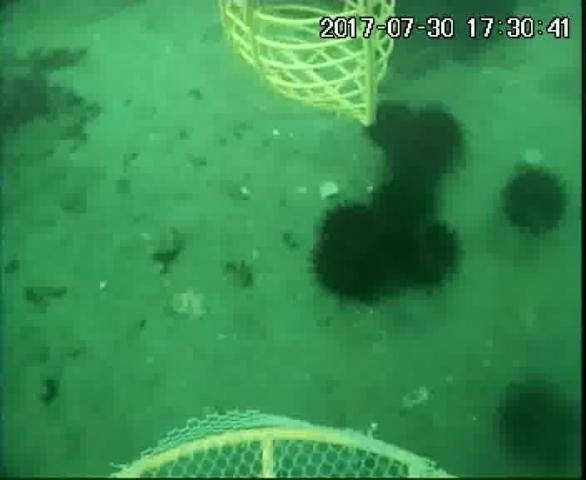echinus: (308, 202, 400, 306), (388, 1, 523, 69), (493, 378, 583, 475), (383, 216, 465, 293), (389, 105, 468, 183), (496, 161, 572, 239), (370, 175, 434, 231), (364, 100, 419, 160)
